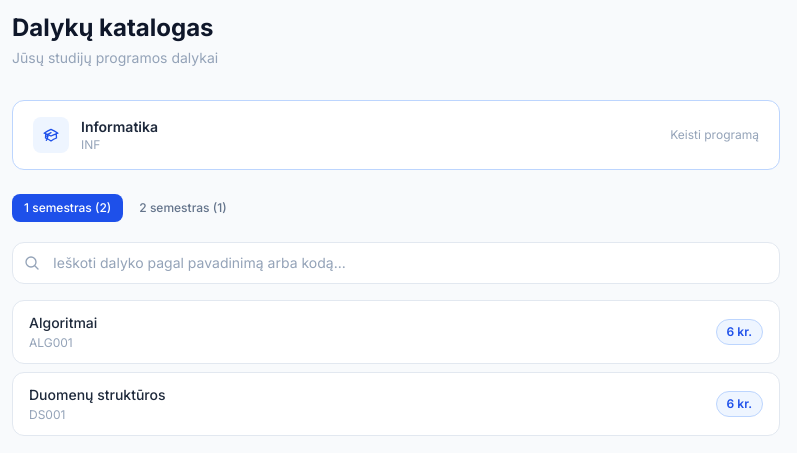
SubjectsCatalogPage: programa pasirinkta › paspaudus semestro skirtuką rodomi to semestro dalykai
Click the button "2 semestras (1)". click: coordinates (183, 208)
box: x1=127 y1=194 x2=239 y2=222
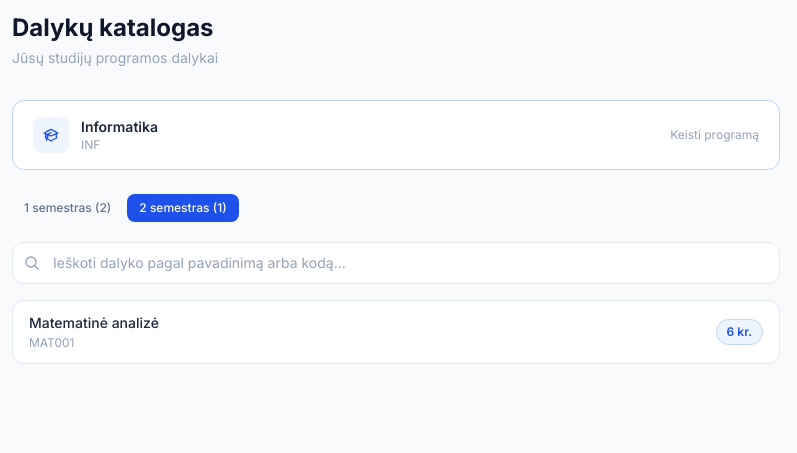
Now the text "Matematinė analizė" is shown, box x1=29 y1=313 x2=159 y2=333
Now the text "Algoritmai" is gone
